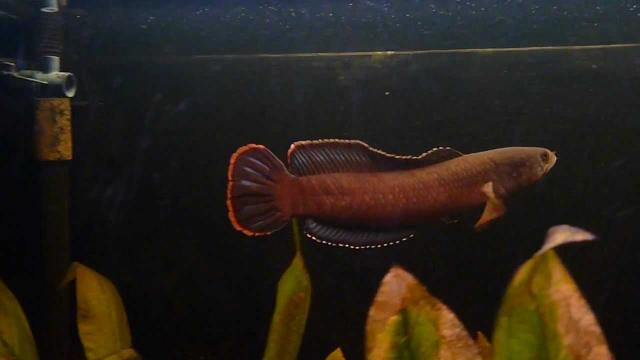Mulut: (526, 147, 562, 191)
Sirip Anal: (301, 218, 421, 250)
Sirip Dada: (468, 178, 512, 238)
Sirip Ekor: (224, 142, 292, 240)
Sirip Punggung: (284, 130, 468, 178)
